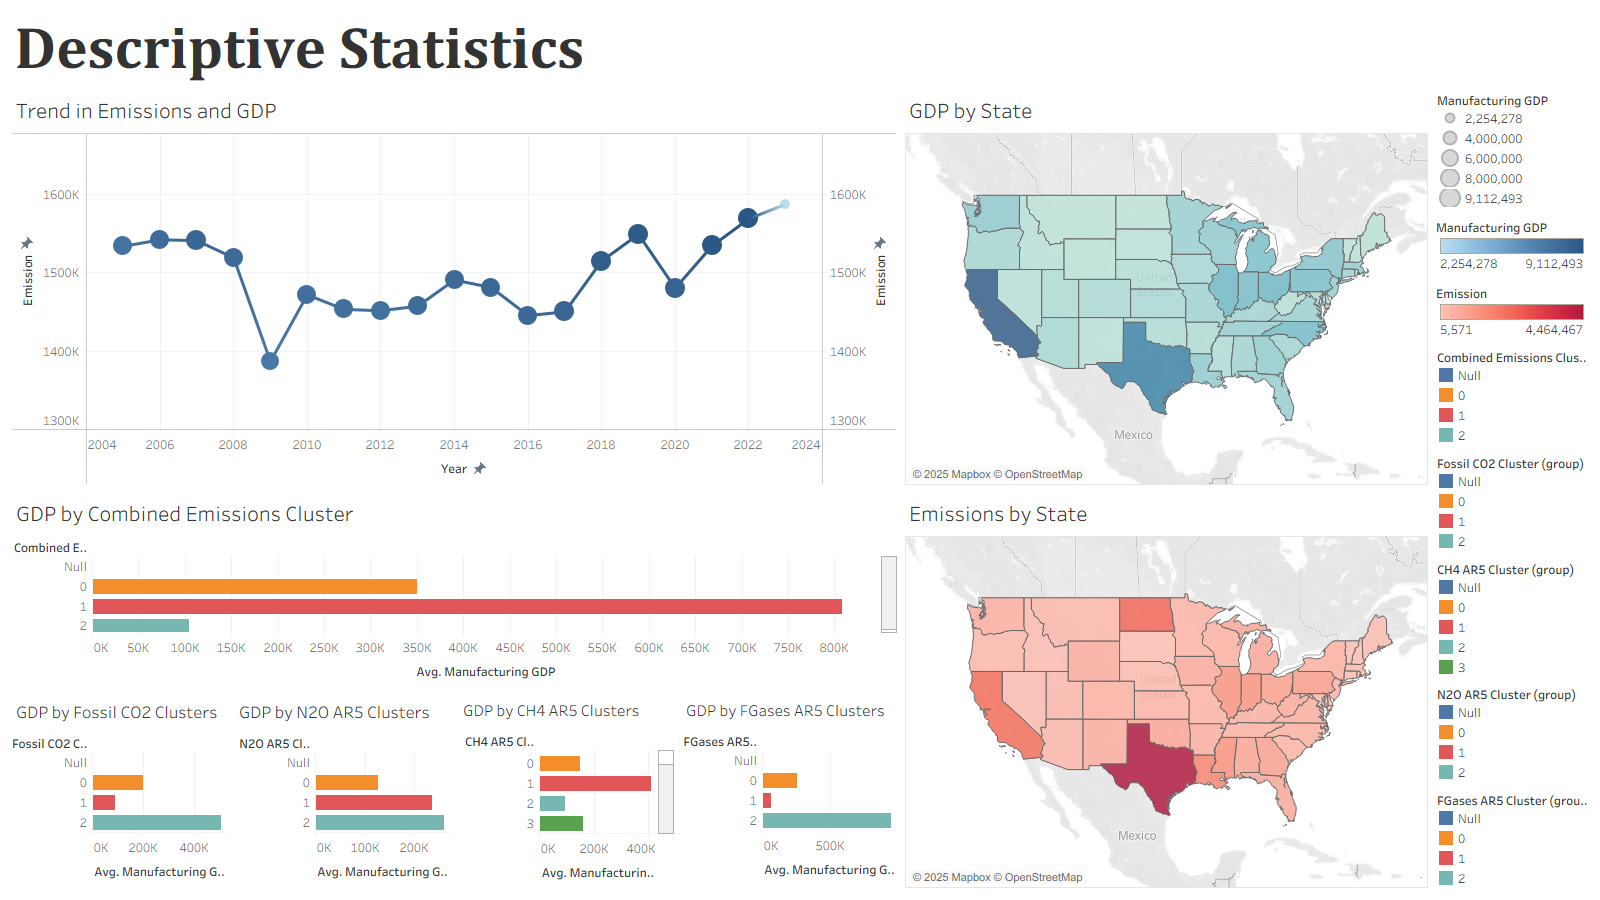

What the dashboard file says about the page in this screenshot:
{"tool":"tableau","page":{"name":"Dashboard 1","canvas":[1600,900],"ordinal":0},"visuals":[{"type":"title","box":[8,8,1584,78]},{"type":"worksheet","title":"Sheet 1","mark":"Automatic","box":[8,86,1424,806]},{"type":"legend","title":"Sheet 1","param":"[federated.1urvckd0mvvvkj17cmltt13xjr3f].[avg:Combined_Emissions_Cluster:qk]","box":[1432,86,160,65]},{"type":"worksheet","title":"Sheet 6","mark":"Automatic","box":[770,98,657,487]},{"type":"legend","title":"Sheet 2","param":"[federated.1urvckd0mvvvkj17cmltt13xjr3f].[avg:Fossil_CO2_Cluster:qk]","box":[1432,151,160,65]},{"type":"legend","title":"Sheet 3","param":"[federated.1urvckd0mvvvkj17cmltt13xjr3f].[avg:CH4_AR5_Cluster:qk]","box":[1432,216,160,65]},{"type":"legend","title":"Sheet 4","param":"[federated.1urvckd0mvvvkj17cmltt13xjr3f].[avg:N2O_AR5_Cluster:qk]","box":[1432,281,160,65]},{"type":"legend","title":"Sheet 5","param":"[federated.1urvckd0mvvvkj17cmltt13xjr3f].[avg:FGases_AR5_Cluster:qk]","box":[1432,346,160,65]},{"type":"legend","title":"Sheet 6","param":"[federated.1urvckd0mvvvkj17cmltt13xjr3f].[avg:Manufacturing_GDP:qk]","box":[1434,415,160,94]},{"type":"worksheet","title":"Sheet 2","mark":"Automatic","box":[13,587,348,300]},{"type":"worksheet","title":"Sheet 5","mark":"Automatic","box":[732,587,346,300]},{"type":"worksheet","title":"Sheet 3","mark":"Automatic","box":[1078,587,347,300]},{"type":"worksheet","title":"Sheet 4","mark":"Automatic","box":[360,588,372,300]}]}

Visuals, with their boxes in screenshot pixels (x1, y1, x2, y2), scaled from the page's 1600x900 canvas onto the 1600x900 screenshot:
title: x1=8 y1=8 x2=1592 y2=86
"Sheet 1" worksheet: x1=8 y1=86 x2=1432 y2=892
"Sheet 1" legend: x1=1432 y1=86 x2=1592 y2=151
"Sheet 6" worksheet: x1=770 y1=98 x2=1427 y2=585
"Sheet 2" legend: x1=1432 y1=151 x2=1592 y2=216
"Sheet 3" legend: x1=1432 y1=216 x2=1592 y2=281
"Sheet 4" legend: x1=1432 y1=281 x2=1592 y2=346
"Sheet 5" legend: x1=1432 y1=346 x2=1592 y2=411
"Sheet 6" legend: x1=1434 y1=415 x2=1594 y2=509
"Sheet 2" worksheet: x1=13 y1=587 x2=361 y2=887
"Sheet 5" worksheet: x1=732 y1=587 x2=1078 y2=887
"Sheet 3" worksheet: x1=1078 y1=587 x2=1425 y2=887
"Sheet 4" worksheet: x1=360 y1=588 x2=732 y2=888
